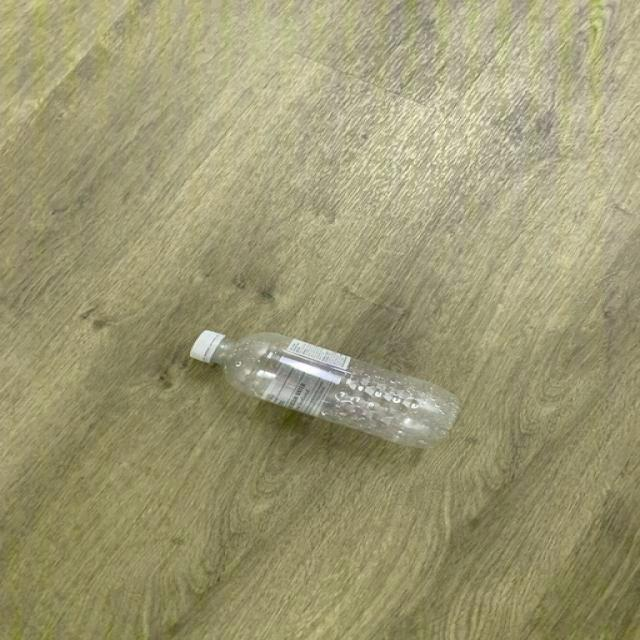bottle: (190, 330, 461, 449)
